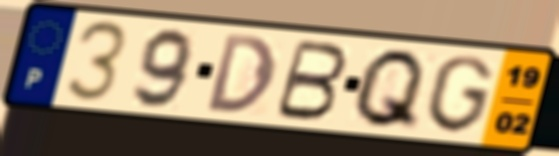3: (63, 17, 130, 105)
9: (132, 26, 196, 110)
B: (270, 37, 351, 124)
D: (205, 31, 279, 115)
G: (422, 53, 497, 136)
Q: (348, 46, 430, 134)
